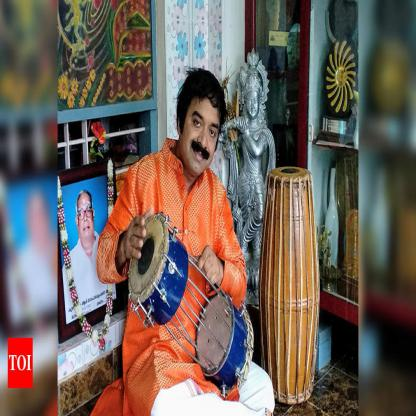Mridangam: (131, 208, 243, 385), (257, 152, 332, 414)
